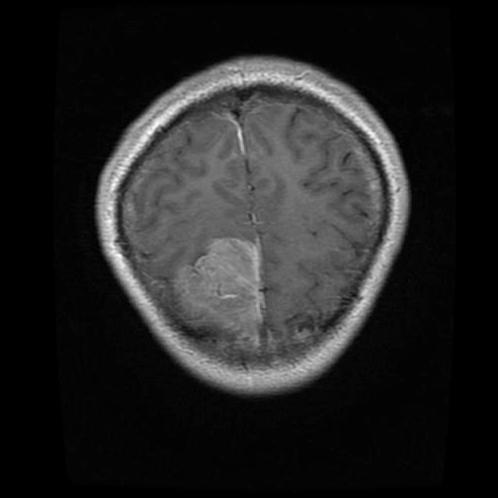Tumour-Meningioma: (187, 223, 285, 350)
